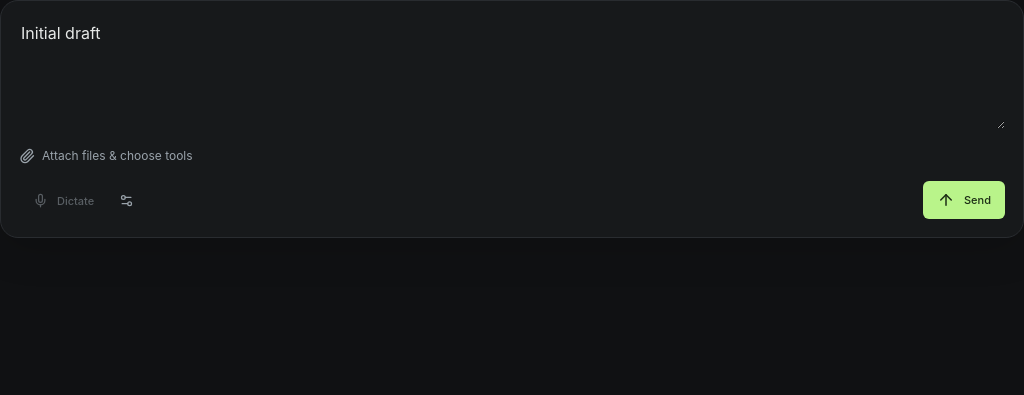
cancels a late queue acknowledgement after navigation
Click the button named "Dictation options" at (127, 201), box [110,184,143,217]
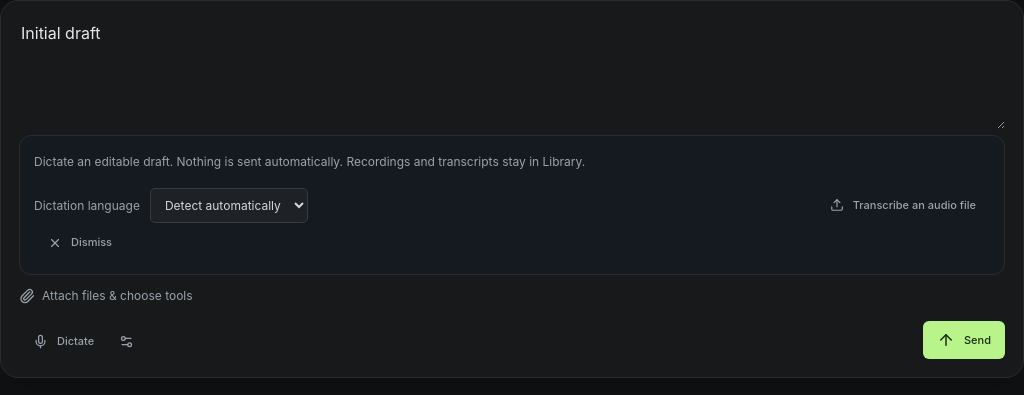
Now the element named "Dictation audio file" is enabled, box [34,148,990,224]
